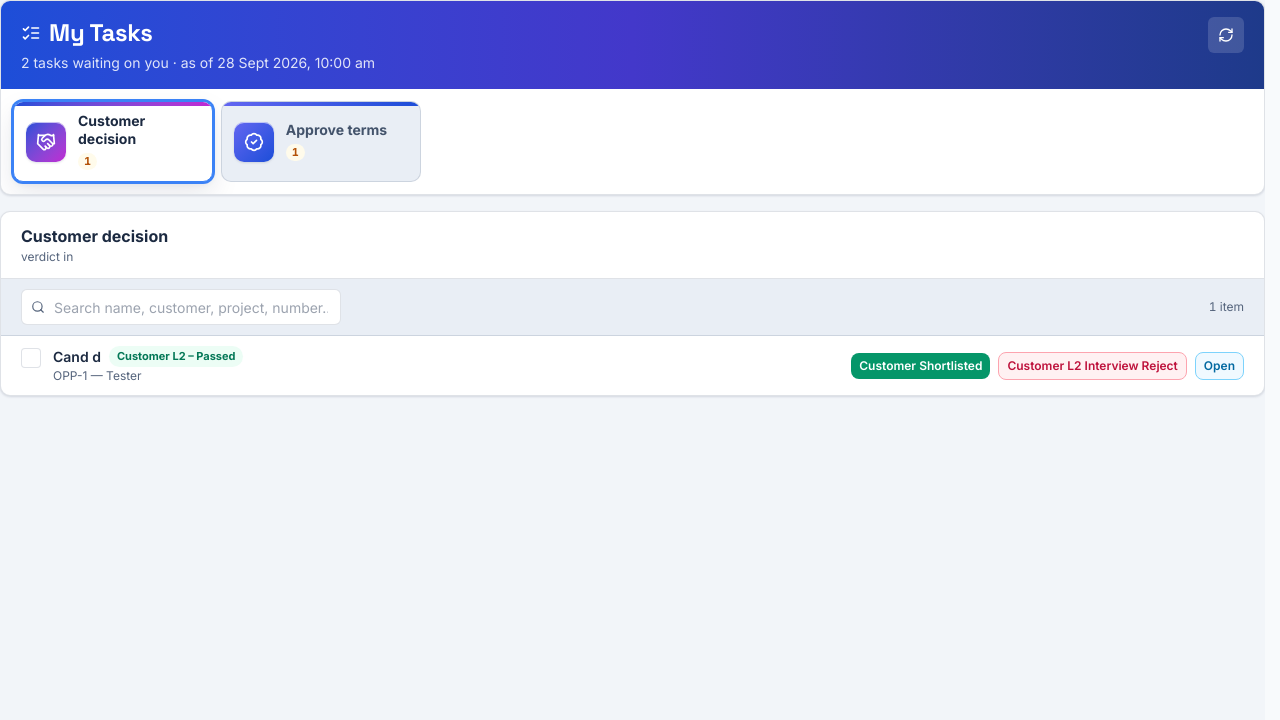
Scenario: MyTasksPage › a Sales tab offers the moves in place and the approval shows the terms
The image size is (1280, 720).
Expected: the button "Customer Shortlisted" is shown, [851,353,990,379]
Expected: the button "Customer L2 Interview Reject" is shown, [998,352,1187,380]
Click the tab "Approve terms 1".
click(321, 142)  # box [221,101,421,182]
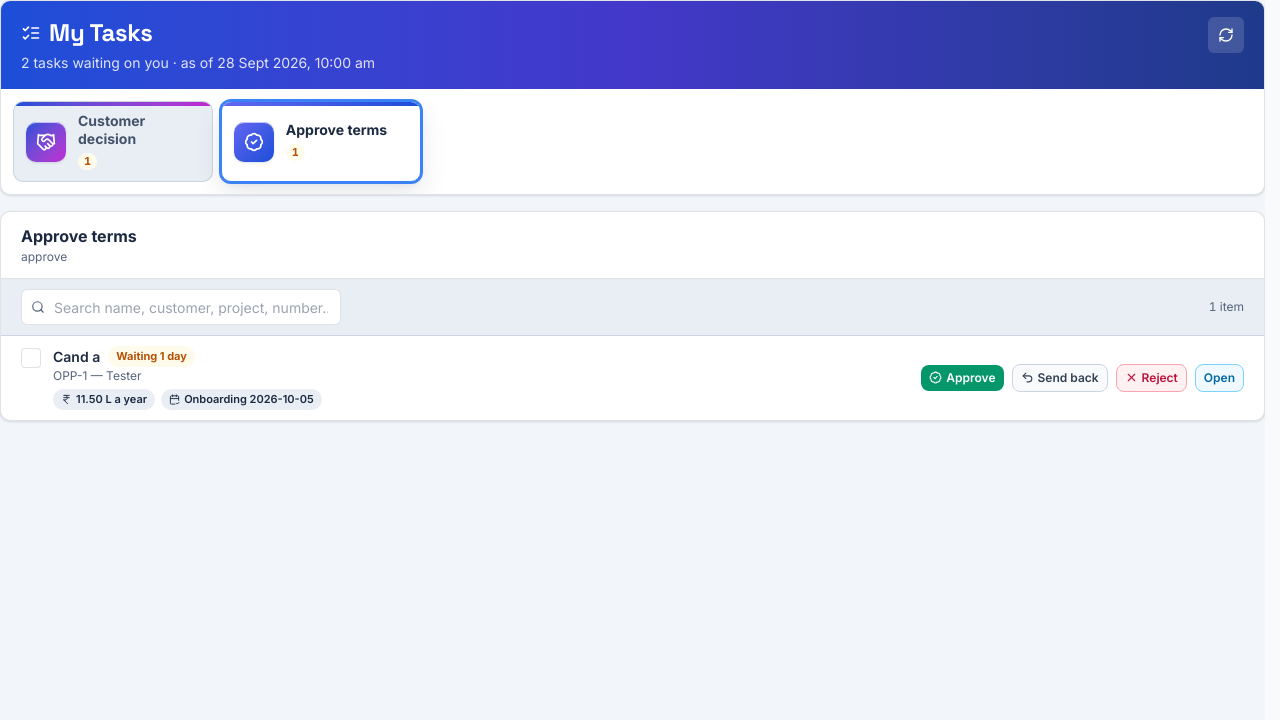
Expected: the button "Approve" is shown
Expected: the text "11.50 L a year" is shown, [53,389,155,410]
Expected: the text "Onboarding 2026-10-05" is shown, [161,389,322,410]
The decision pop-up switches Approve → Send back in place, no second dialog.
Click the button "Approve".
click(962, 378)  # box [921,365,1004,391]
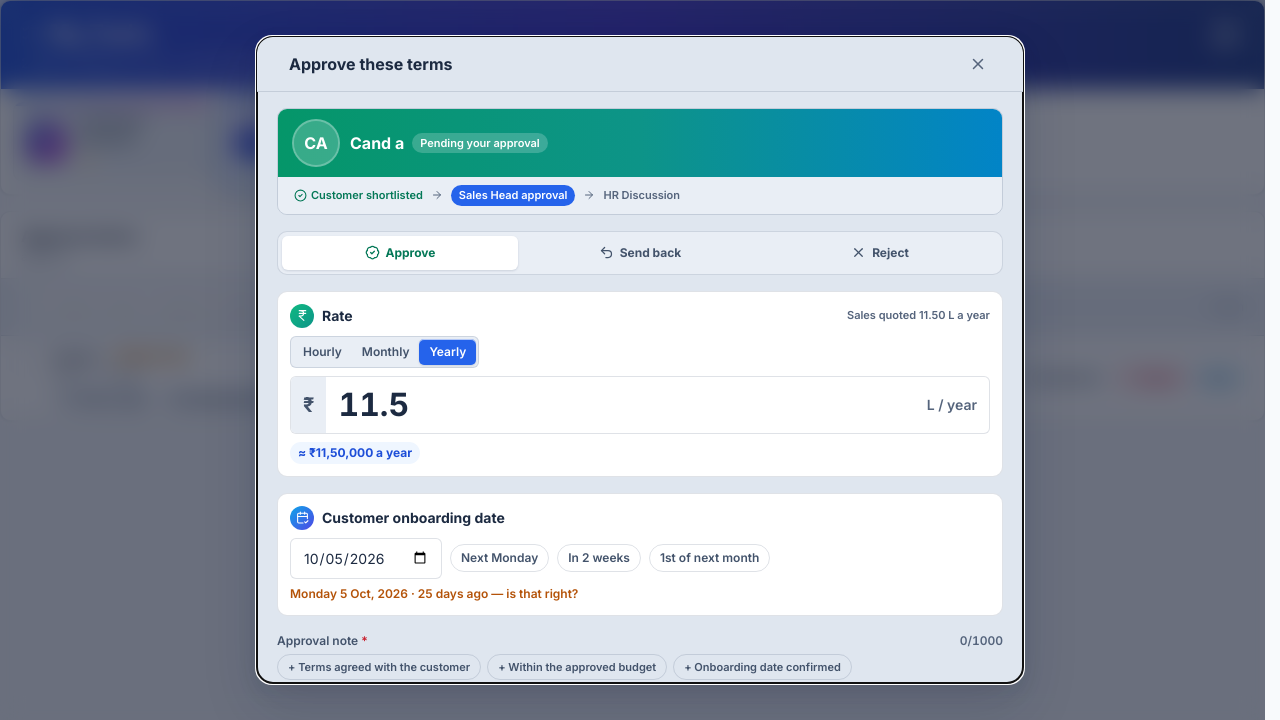
Expected: the dialog "Approve these terms" is shown, [256,36,1024,684]
Click the radio button labelled "Send back".
click(640, 252)  # box [522,236,758,270]
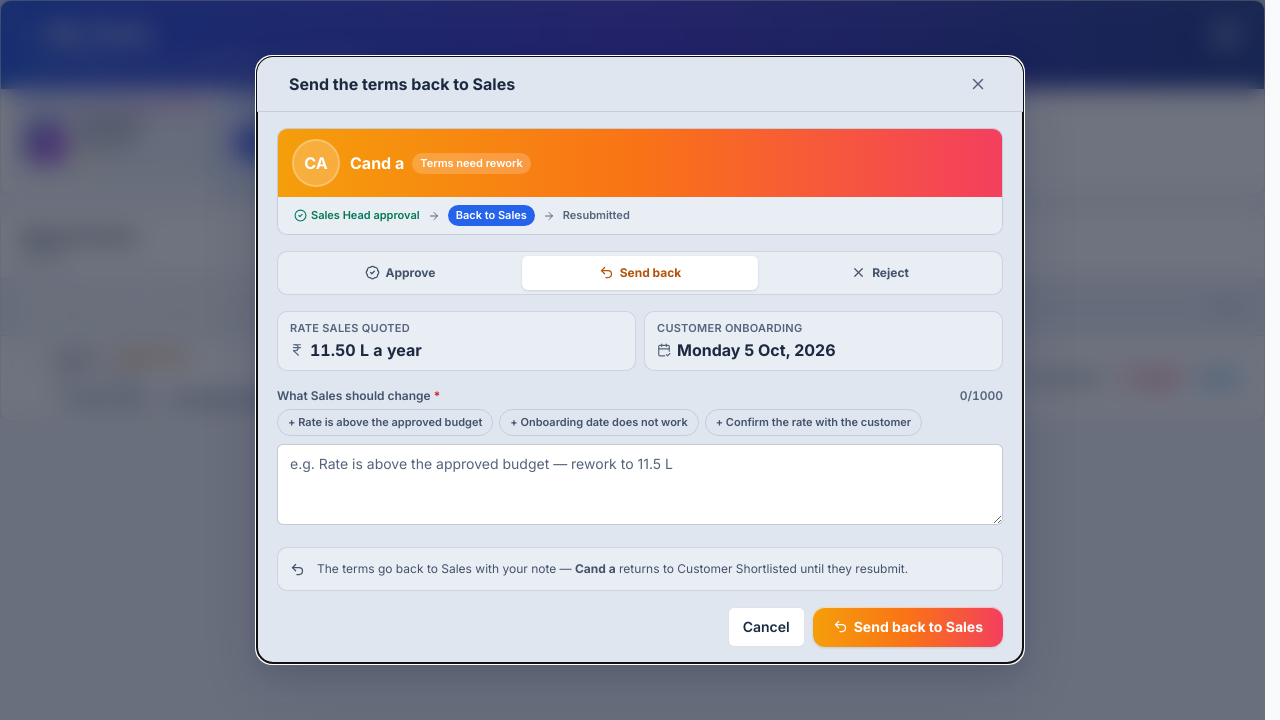
Expected: the dialog "Send the terms back to Sales" is shown, [256,56,1024,664]
Expected: the button "Send back to Sales" is shown, [813,607,1003,647]
